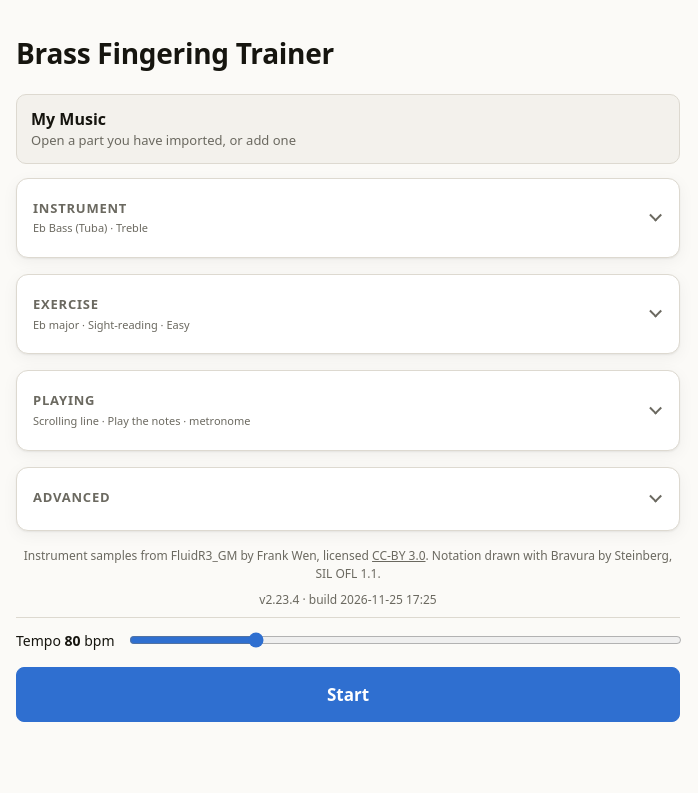
Test: the app › the material boxes › opens exactly one box, and it is the material chosen
Click the text "Exercise": (66, 304) [33, 295, 99, 313]
(page scrolled)
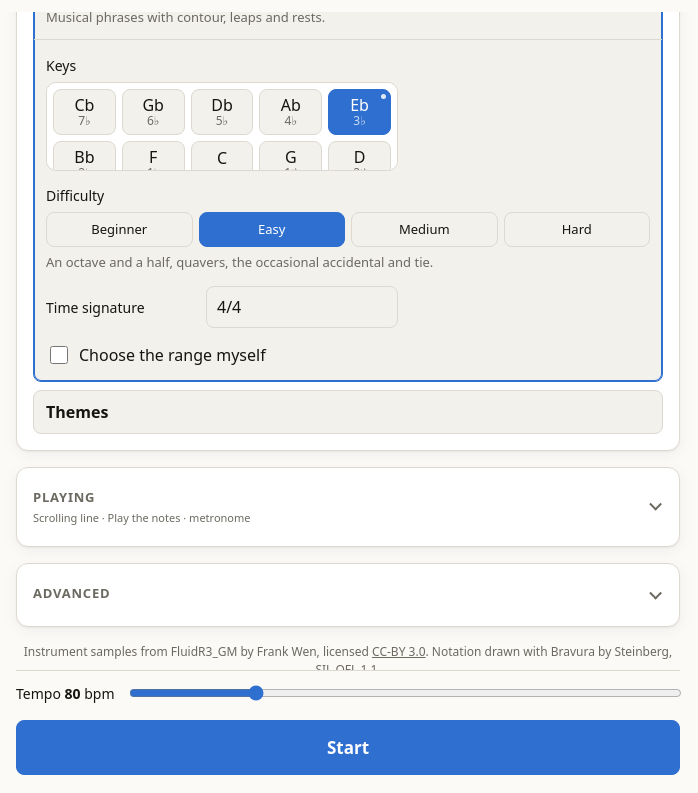
Now the number of elements with class "mode__body" is 1, box [34, 40, 662, 381]
Click the button "Themes": (77, 412) [34, 391, 662, 433]
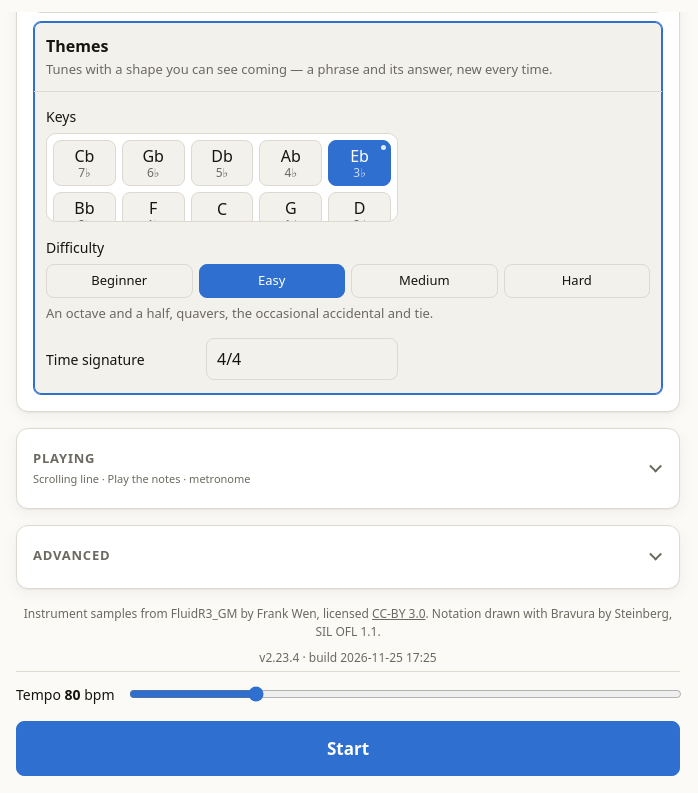
Now the text "Themes" is shown, box [46, 35, 108, 57]
Now the number of elements with class "mode__body" is 1, box [34, 91, 662, 394]
